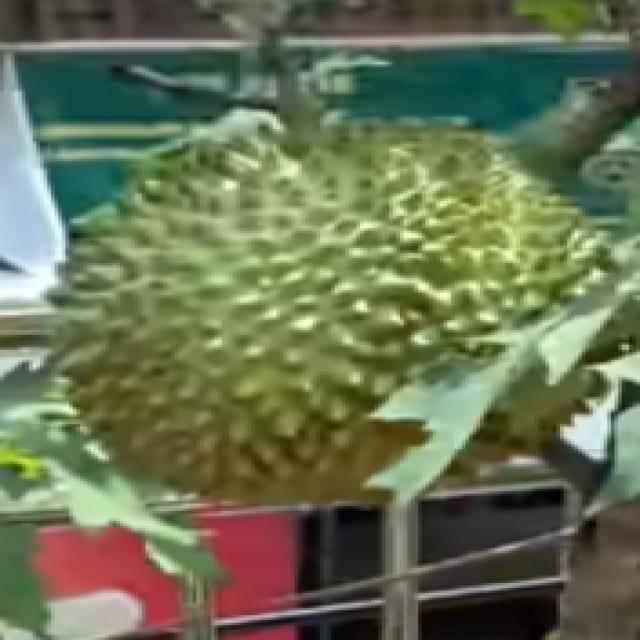immature: (50, 108, 640, 524)
